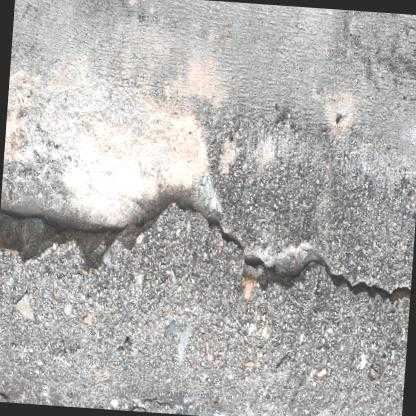crack: (0, 193, 411, 306)
